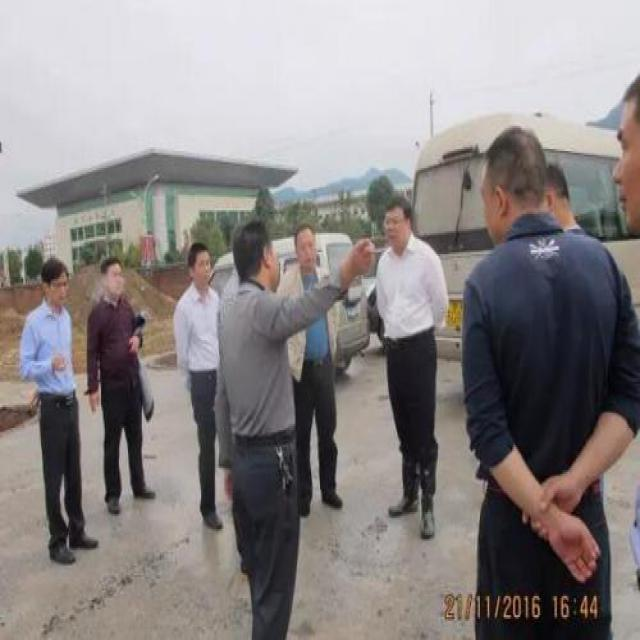head: (472, 116, 542, 240), (614, 70, 640, 234), (229, 213, 275, 297), (539, 162, 576, 231), (376, 187, 414, 250), (36, 249, 70, 307), (100, 249, 130, 307), (182, 236, 212, 288), (292, 219, 320, 272)
person: (444, 121, 636, 630), (213, 215, 315, 632), (357, 186, 464, 543), (16, 248, 102, 575), (277, 214, 355, 522), (83, 241, 168, 519), (164, 236, 235, 534)
